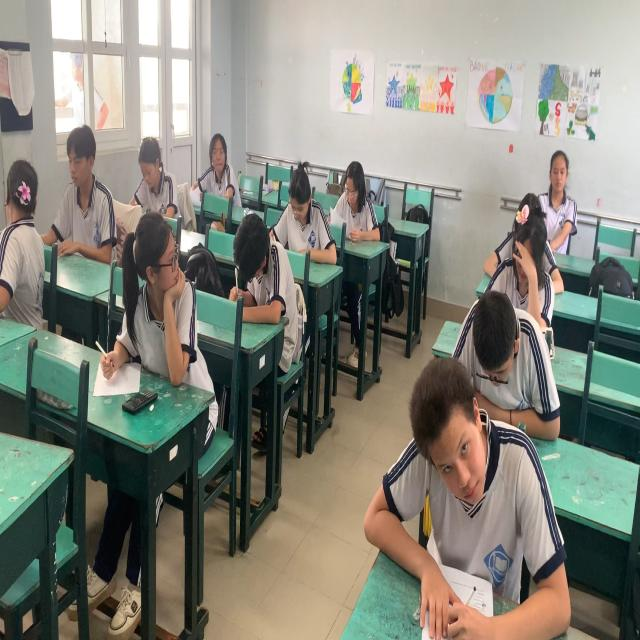cheating: (122, 216, 200, 388), (0, 150, 54, 337)
not_cheating: (368, 361, 544, 640), (469, 288, 539, 409), (212, 209, 294, 312), (55, 122, 116, 250), (270, 161, 330, 257), (498, 210, 554, 302), (132, 136, 181, 220), (333, 154, 379, 240), (197, 127, 237, 206), (545, 140, 570, 212)
